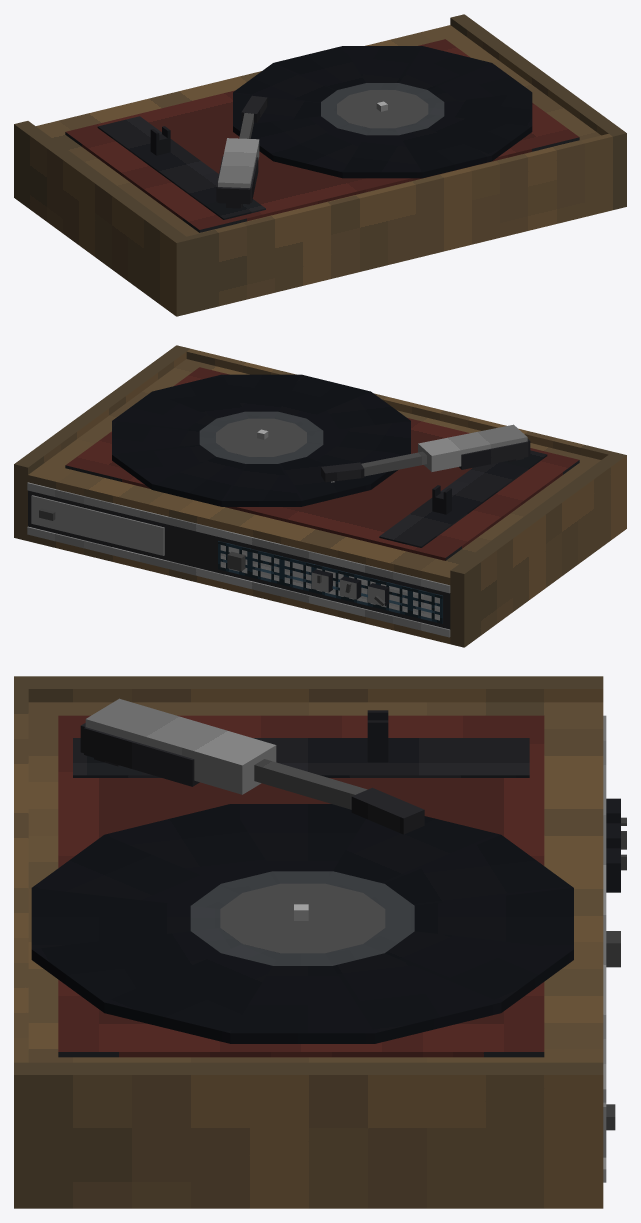
File: record_player.gltf
3 renders of one model, top to bottom at view 1: azimuth 30°, elevation 25°; view 2: azimuth 150°, elevation 25°; view 3: azimuth 270°, elevation 25°, orthographic. The views are drawn at different scales.
Parts seen in each view (by area): view 1: int_cube_rp (×12); view 2: int_cube_rp (×25); view 3: int_cube_rp (×14).
Part boxes in pixels (left/top/right/bottom): int_cube_rp (×12): left=14, top=14, right=626, bottom=316; int_cube_rp (×25): left=14, top=345, right=626, bottom=647; int_cube_rp (×14): left=14, top=676, right=606, bottom=1208.
Size of the model in its own units: 1 by 0.2031 by 0.65.
8 materials, 8 textured.
